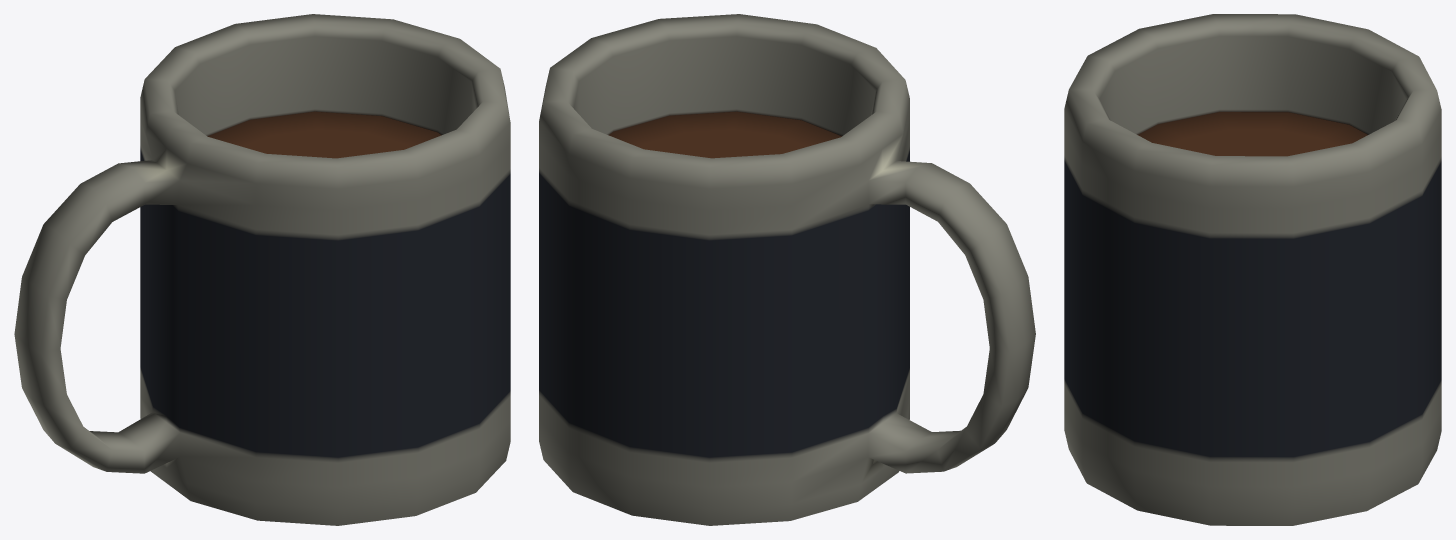
Rendered from mug_01.fbx.
3 renders of one model, left to right at view 1: azimuth 30°, elevation 25°; view 2: azimuth 150°, elevation 25°; view 3: azimuth 270°, elevation 25°, orthographic.
Parts seen in each view (by area): view 1: mug01; view 2: mug01; view 3: mug01.
Boxes of the visible parts, x1=… form: mug01: x1=14, y1=14, x2=510, y2=525; mug01: x1=539, y1=14, x2=1035, y2=525; mug01: x1=1064, y1=14, x2=1441, y2=525.
Size of the model in its own units: 210 by 156 by 148.
